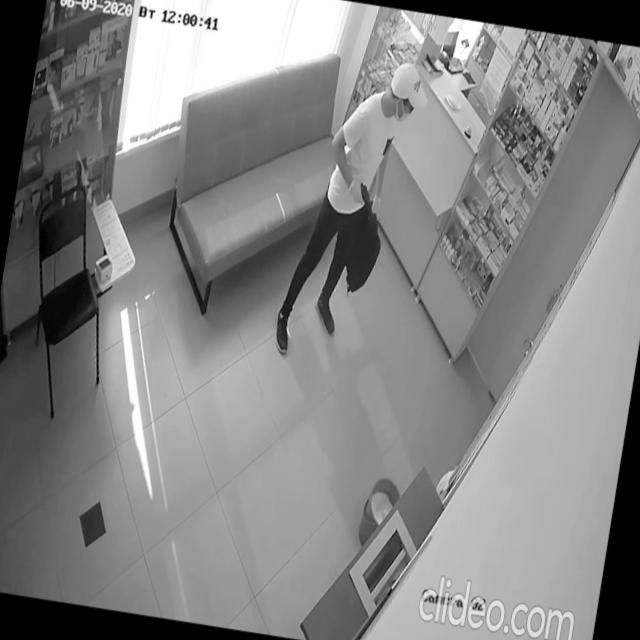gun: (354, 178, 380, 226)
person with a gun: (270, 48, 434, 376)
